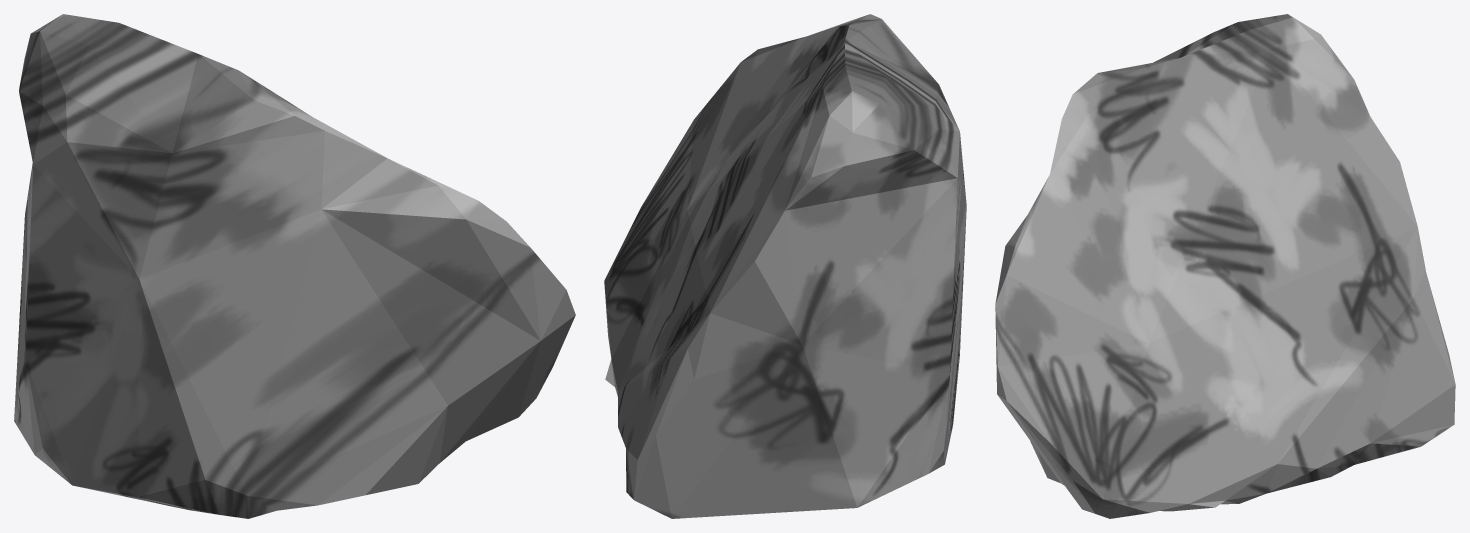
File: rock1.FBX
3 views of the same model, side by side, from view 1: azimuth 30°, elevation 25°; view 2: azimuth 150°, elevation 25°; view 3: azimuth 270°, elevation 25° (orthographic). The views are drawn at different scales.
Parts seen in each view (by area): view 1: rock1; view 2: rock1; view 3: rock1.
Boxes of the visible parts, <box> form: rock1: <box>14,14,575,518</box>; rock1: <box>604,14,966,518</box>; rock1: <box>995,14,1455,518</box>.
Size of the model in its own units: 2.95 by 2.74 by 3.04.
Materials: 1 (1 with a texture image).
